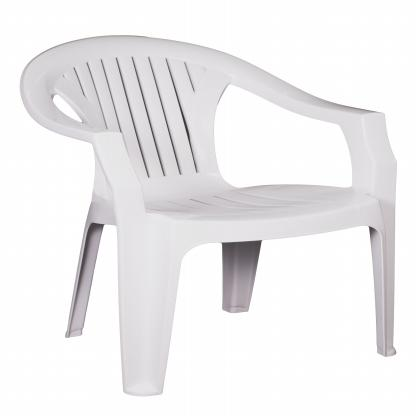chair: (17, 28, 412, 395)
